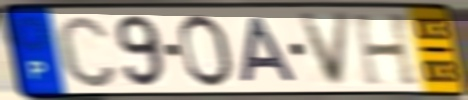9: (115, 12, 168, 89)
A: (238, 15, 300, 86)
C: (53, 12, 121, 90)
H: (350, 10, 423, 88)
O: (176, 12, 237, 90)
V: (297, 10, 355, 90)
